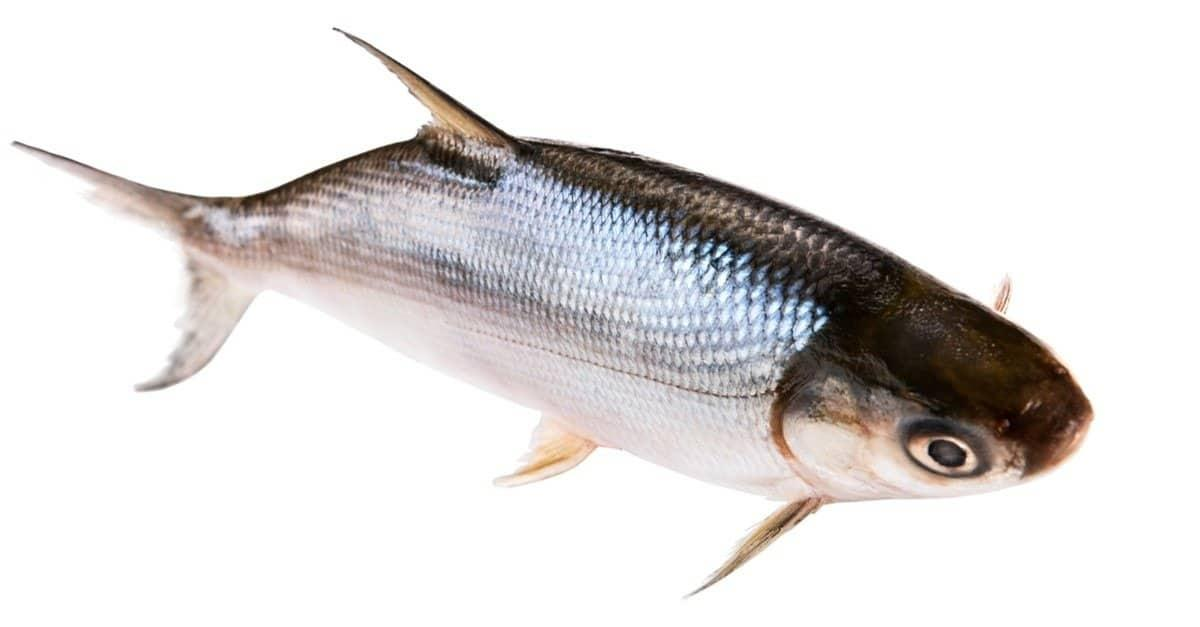Bangus: (11, 25, 1093, 608)
